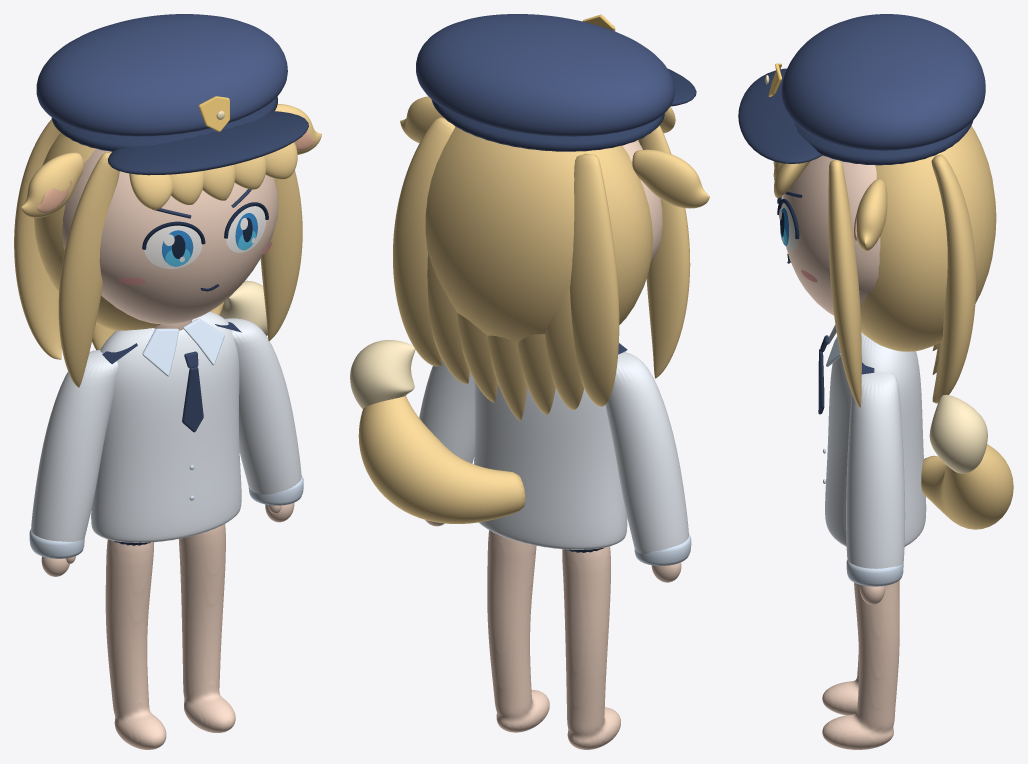
Rendered from character.glb.
The picture shows the model from 3 angles, left to right: view 1: azimuth 30°, elevation 25°; view 2: azimuth 150°, elevation 25°; view 3: azimuth 270°, elevation 25°; orthographic projection. The views are drawn at different scales.
Parts seen in each view (by area): view 1: Oversized shirt, Soft police cap crown, Round chibi face, Right balloon sleeve, Right soft leg, Left soft leg, Left balloon sleeve, Right side lock, Rounded black visor, Broad back lock 00, Left side lock, Hair back volume (+17 smaller); view 2: Hair back volume, Soft police cap crown, Oversized shirt, Golden curled tail, Right balloon sleeve, Broad back lock 00, Right soft leg, Left soft leg, Broad back lock 06, Right side lock, Left balloon sleeve, Cream tail tip (+11 smaller); view 3: Soft police cap crown, Hair back volume, Left balloon sleeve, Oversized shirt, Left soft leg, Round chibi face, Broad back lock 06, Left side lock, Golden curled tail, Rounded black visor, Cream tail tip, Police cap band (+4 smaller).
Part boxes in pixels (box(x1,y1,x2,y2)): Oversized shirt: box(91, 311, 241, 542); Soft police cap crown: box(36, 14, 287, 136); Round chibi face: box(62, 148, 278, 324); Right balloon sleeve: box(31, 350, 118, 541); Right soft leg: box(105, 539, 166, 749); Left soft leg: box(178, 524, 235, 732); Left balloon sleeve: box(225, 318, 301, 494); Right side lock: box(58, 152, 119, 387); Rounded black visor: box(108, 111, 308, 175); Broad back lock 00: box(14, 119, 61, 359); Left side lock: box(260, 170, 302, 341); Hair back volume: box(34, 133, 160, 330); Hair back volume: box(425, 127, 652, 342); Soft police cap crown: box(416, 14, 674, 136); Oversized shirt: box(474, 381, 627, 549); Golden curled tail: box(358, 396, 525, 523); Right balloon sleeve: box(605, 352, 688, 553); Broad back lock 00: box(570, 153, 619, 406); Right soft leg: box(562, 546, 620, 749); Left soft leg: box(487, 530, 549, 732); Broad back lock 06: box(393, 117, 455, 366); Right side lock: box(638, 125, 690, 378); Left balloon sleeve: box(419, 360, 474, 463); Cream tail tip: box(350, 340, 415, 409); Soft police cap crown: box(781, 14, 985, 150); Hair back volume: box(860, 126, 996, 351); Left balloon sleeve: box(846, 372, 905, 568); Oversized shirt: box(825, 332, 926, 546); Left soft leg: box(822, 581, 899, 749); Round chibi face: box(783, 155, 880, 315); Broad back lock 06: box(931, 154, 976, 403); Left side lock: box(828, 159, 861, 407); Golden curled tail: box(921, 444, 1013, 529); Rounded black visor: box(738, 68, 822, 163); Cream tail tip: box(929, 395, 987, 473); Police cap band: box(794, 120, 973, 165).
Bounding box in the file's own units: 0.6696 × 1.47 × 0.5335.
